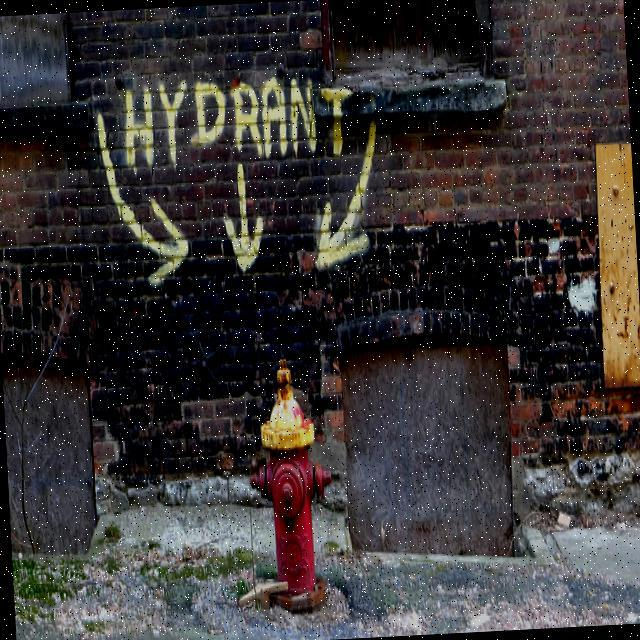fire_hydrant: (225, 352, 348, 620)
